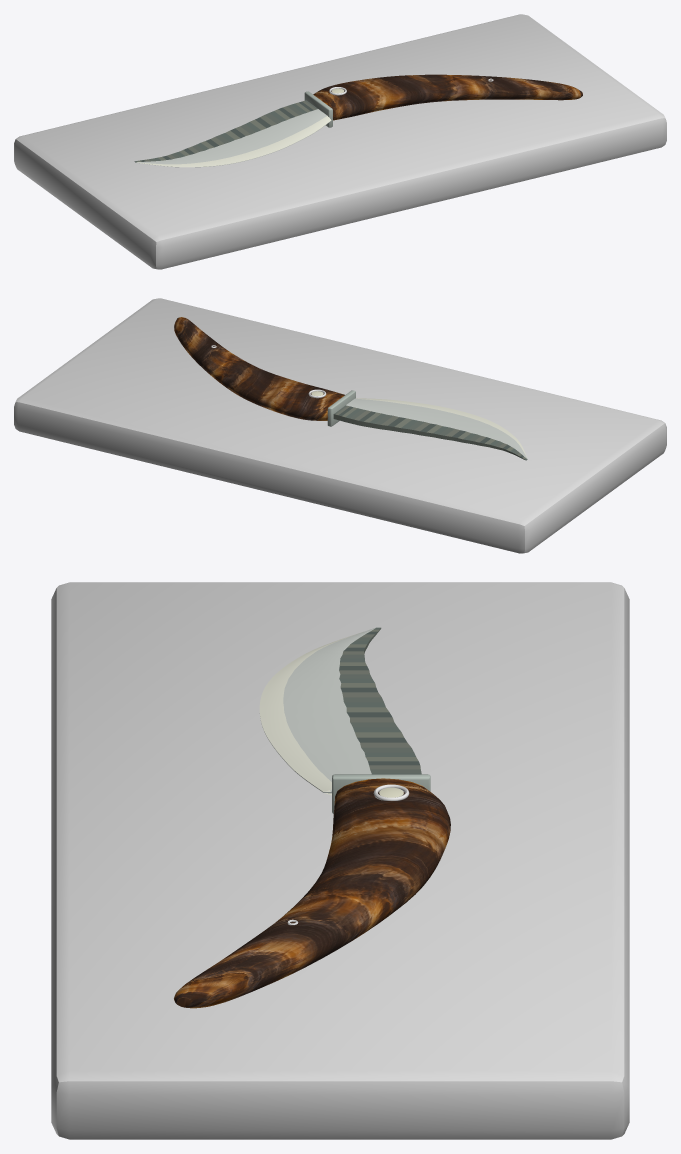
File: Couteau_Corse.fbx
3 views of the same model, one above another, from view 1: azimuth 30°, elevation 25°; view 2: azimuth 150°, elevation 25°; view 3: azimuth 270°, elevation 25° (orthographic). The views are drawn at different scales.
Parts seen in each view (by area): view 1: Planche_Presentation.001, Couteau_Corne_Courbe.001, Couteau_Lame_Polie.001, Couteau_Dos_Forge.001; view 2: Planche_Presentation.001, Couteau_Corne_Courbe.001, Couteau_Lame_Polie.001, Couteau_Dos_Forge.001; view 3: Planche_Presentation.001, Couteau_Corne_Courbe.001, Couteau_Lame_Polie.001, Couteau_Dos_Forge.001.
Boxes of the visible parts, left/top/right/bottom form: Planche_Presentation.001: left=14, top=14, right=666, bottom=269; Couteau_Corne_Courbe.001: left=313, top=74, right=582, bottom=120; Couteau_Lame_Polie.001: left=134, top=88, right=343, bottom=167; Couteau_Dos_Forge.001: left=135, top=100, right=317, bottom=162; Planche_Presentation.001: left=14, top=298, right=666, bottom=553; Couteau_Corne_Courbe.001: left=174, top=317, right=344, bottom=420; Couteau_Lame_Polie.001: left=311, top=390, right=527, bottom=459; Couteau_Dos_Forge.001: left=333, top=405, right=527, bottom=460; Planche_Presentation.001: left=51, top=582, right=629, bottom=1139; Couteau_Corne_Courbe.001: left=174, top=778, right=450, bottom=1008; Couteau_Lame_Polie.001: left=259, top=627, right=430, bottom=813; Couteau_Dos_Forge.001: left=339, top=627, right=421, bottom=774.
Size of the model in its own units: 35 by 3.7 by 17.
